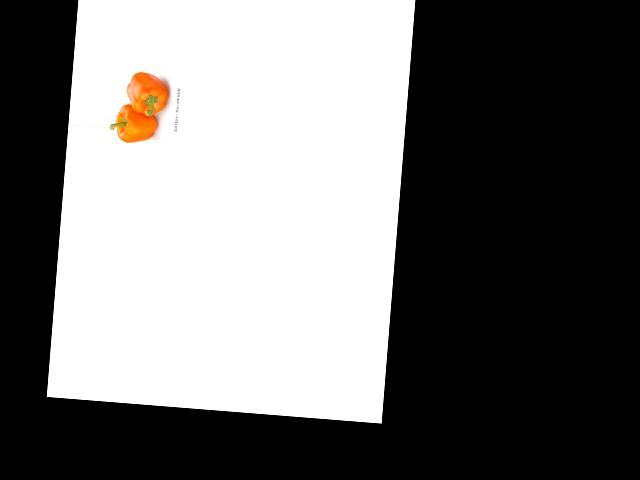bell_pepper: (123, 69, 174, 119)
